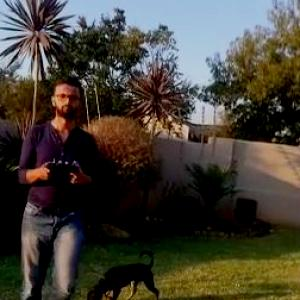follow: (13, 72, 99, 298)
null: (81, 245, 162, 299)
